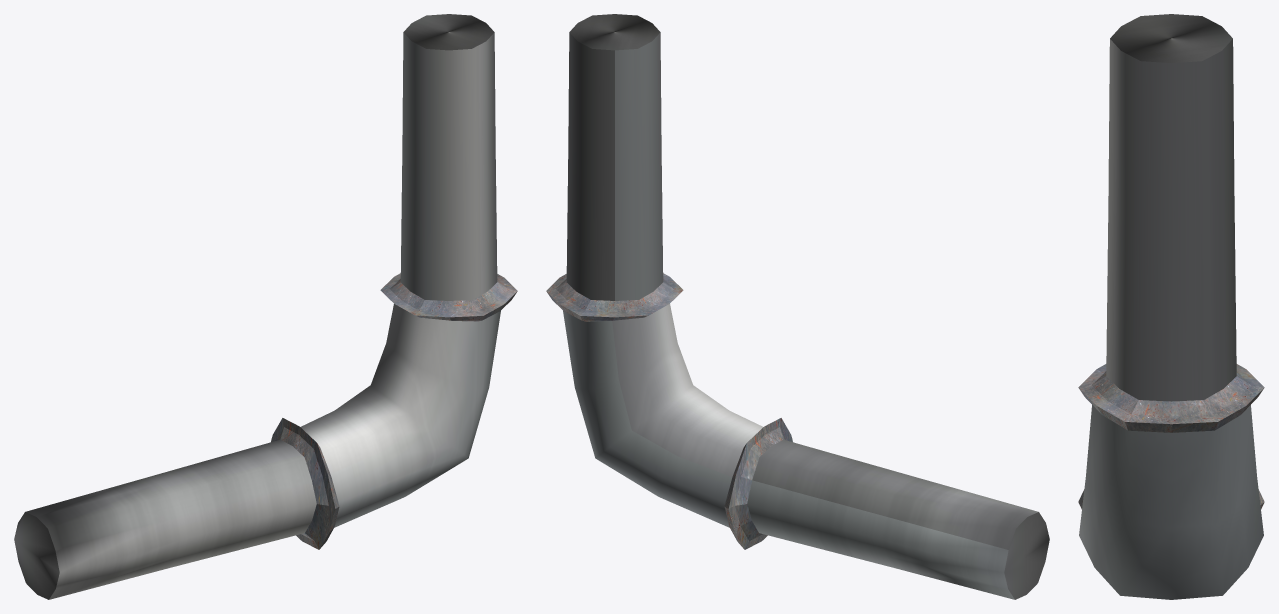
The model's file is pipe90.fbx.
The picture shows the model from 3 angles, left to right: view 1: azimuth 30°, elevation 25°; view 2: azimuth 150°, elevation 25°; view 3: azimuth 270°, elevation 25°; orthographic projection. The views are drawn at different scales.
Visible parts, largest first — view 1: Cylinder; view 2: Cylinder; view 3: Cylinder.
Part boxes in pixels (x1,y1,x2,y2): Cylinder: (14,14,517,599); Cylinder: (546,14,1049,599); Cylinder: (1078,14,1264,599).
Size of the model in its own units: 1.24 by 1.2 by 0.3164.
2 materials, 2 textured.
